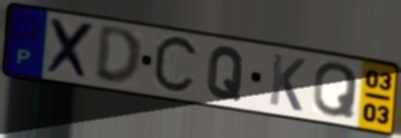C: (150, 33, 202, 97)
D: (92, 25, 145, 88)
K: (266, 51, 308, 114)
Q: (311, 61, 361, 121), (204, 44, 247, 103)
X: (44, 15, 98, 83)
